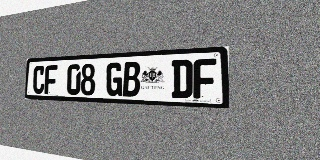0: (66, 64, 81, 95)
8: (80, 63, 96, 95)
B: (123, 61, 140, 97)
C: (32, 65, 45, 94)
D: (171, 59, 193, 98)
F: (193, 58, 216, 99), (44, 65, 57, 94)
G: (106, 62, 123, 96)
